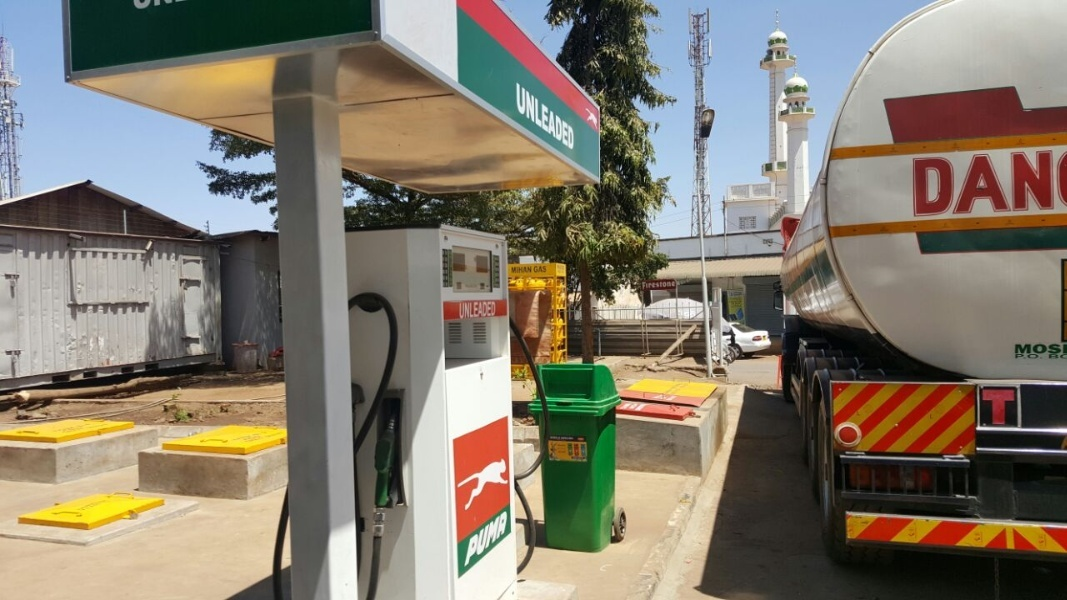text: (561, 79, 577, 155), (529, 79, 544, 155), (545, 79, 560, 155), (913, 149, 928, 219), (929, 149, 944, 219), (945, 149, 960, 219), (961, 149, 976, 219), (977, 149, 992, 219), (993, 149, 1008, 219), (1009, 149, 1024, 219), (1025, 149, 1040, 219), (1041, 149, 1056, 219), (515, 79, 528, 155), (481, 508, 496, 571), (467, 508, 480, 571), (497, 508, 510, 571), (993, 387, 1008, 426), (982, 387, 992, 426), (1009, 387, 1017, 426), (465, 301, 480, 321), (481, 301, 496, 321), (1025, 343, 1040, 355), (1041, 343, 1056, 355), (657, 280, 672, 291), (642, 280, 656, 291), (1025, 352, 1040, 362), (458, 301, 464, 321), (513, 266, 528, 274), (533, 265, 544, 274), (1016, 343, 1024, 355), (1015, 352, 1024, 362), (1057, 353, 1067, 362), (1057, 343, 1064, 355), (1047, 353, 1056, 362), (673, 280, 677, 291), (529, 266, 533, 274), (545, 265, 548, 274), (497, 301, 498, 321), (1041, 352, 1042, 362), (511, 266, 512, 274)
